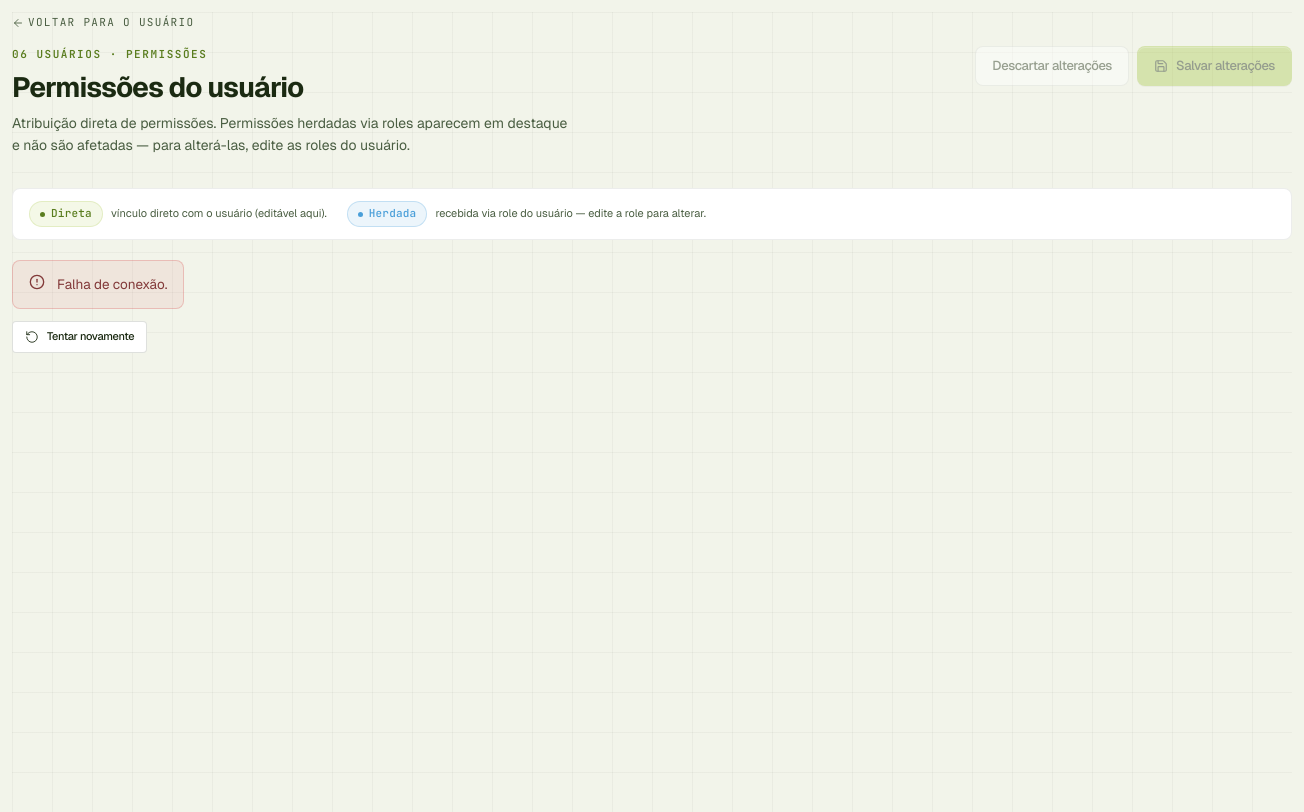
Test case: UserPermissionsShellPage — loading e erro inicial › retry refaz fetch e renderiza grupo após sucesso
Click the button with test id "user-permissions-retry". click: (80, 337)
box: [12, 321, 147, 353]
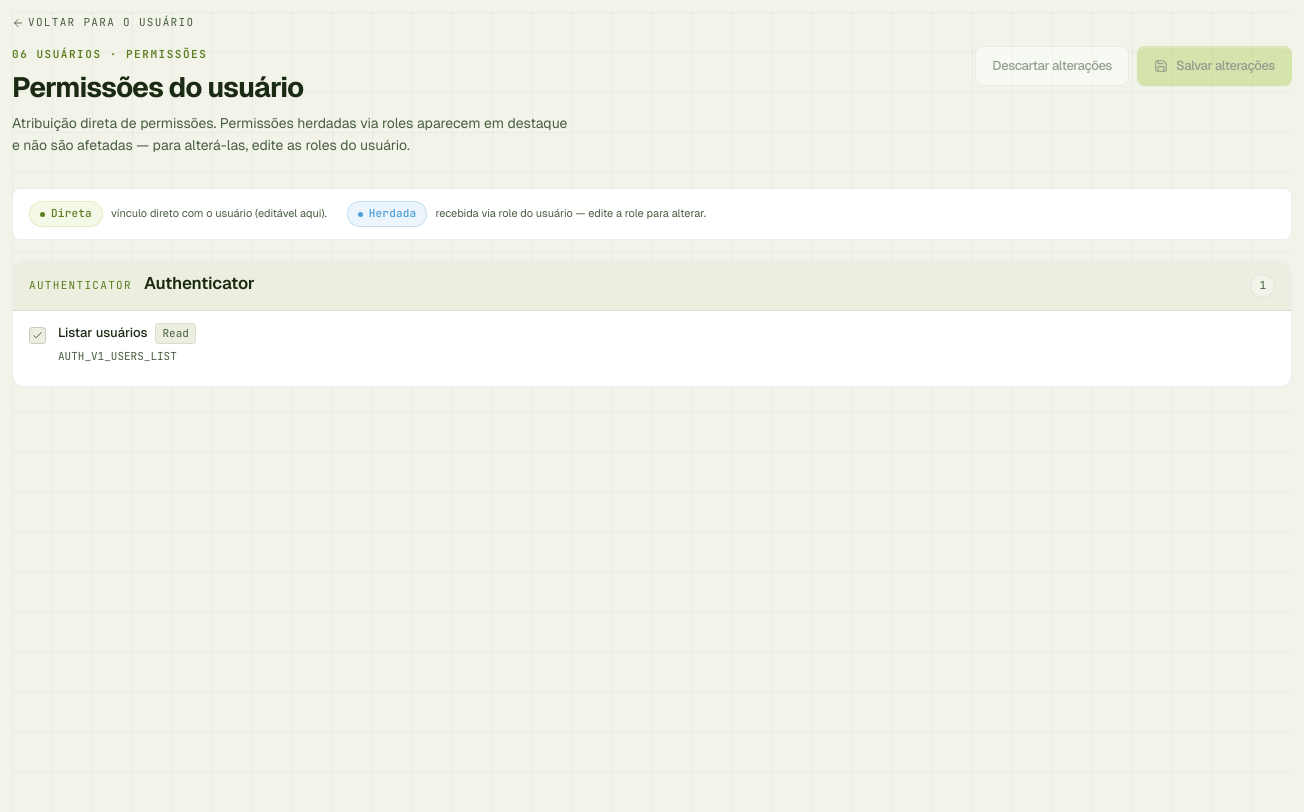
Check: the element with test id "user-permissions-group-authenticator" is shown, box [12, 260, 1292, 387]
